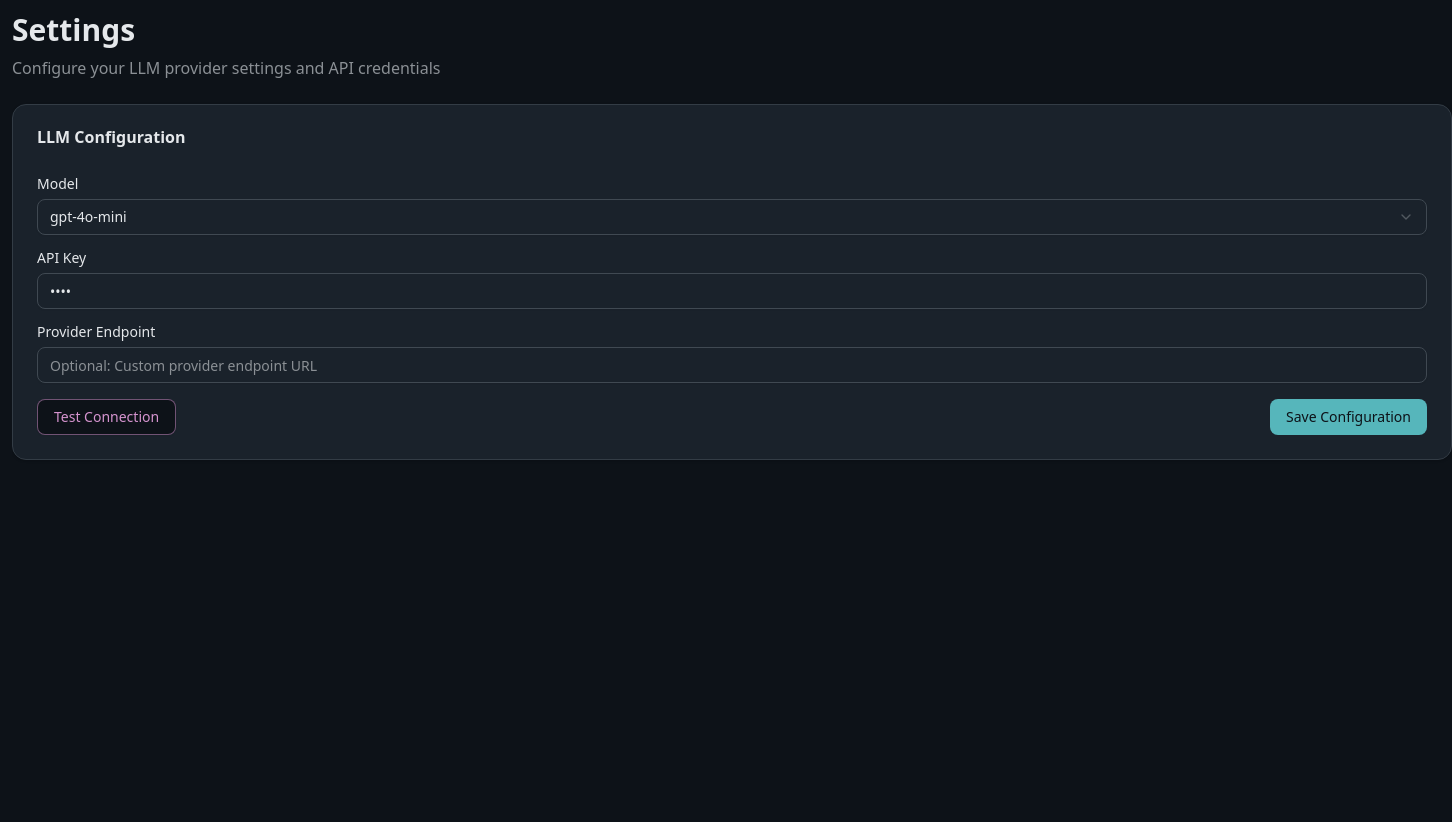
Test case: Settings Test Connection Integration Test › should allow test connection with modified base URL
Type "sk-test-key" into the password field labelled "API Key" at (732, 291), box [37, 273, 1427, 309]
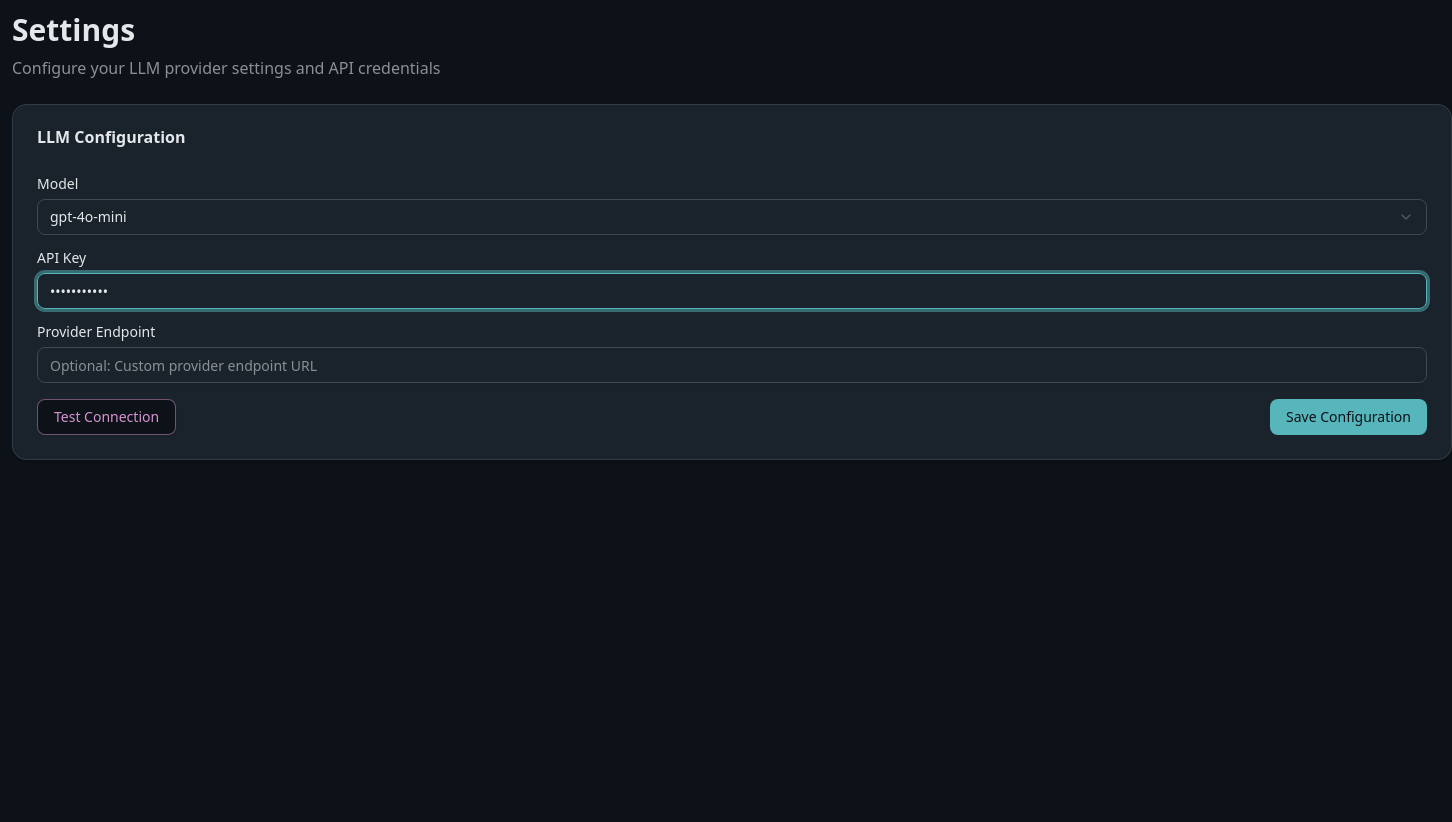
Type "https://custom.openai.endpoint.com" into the field labelled "Provider Endpoint" at (732, 365), box [37, 347, 1427, 383]
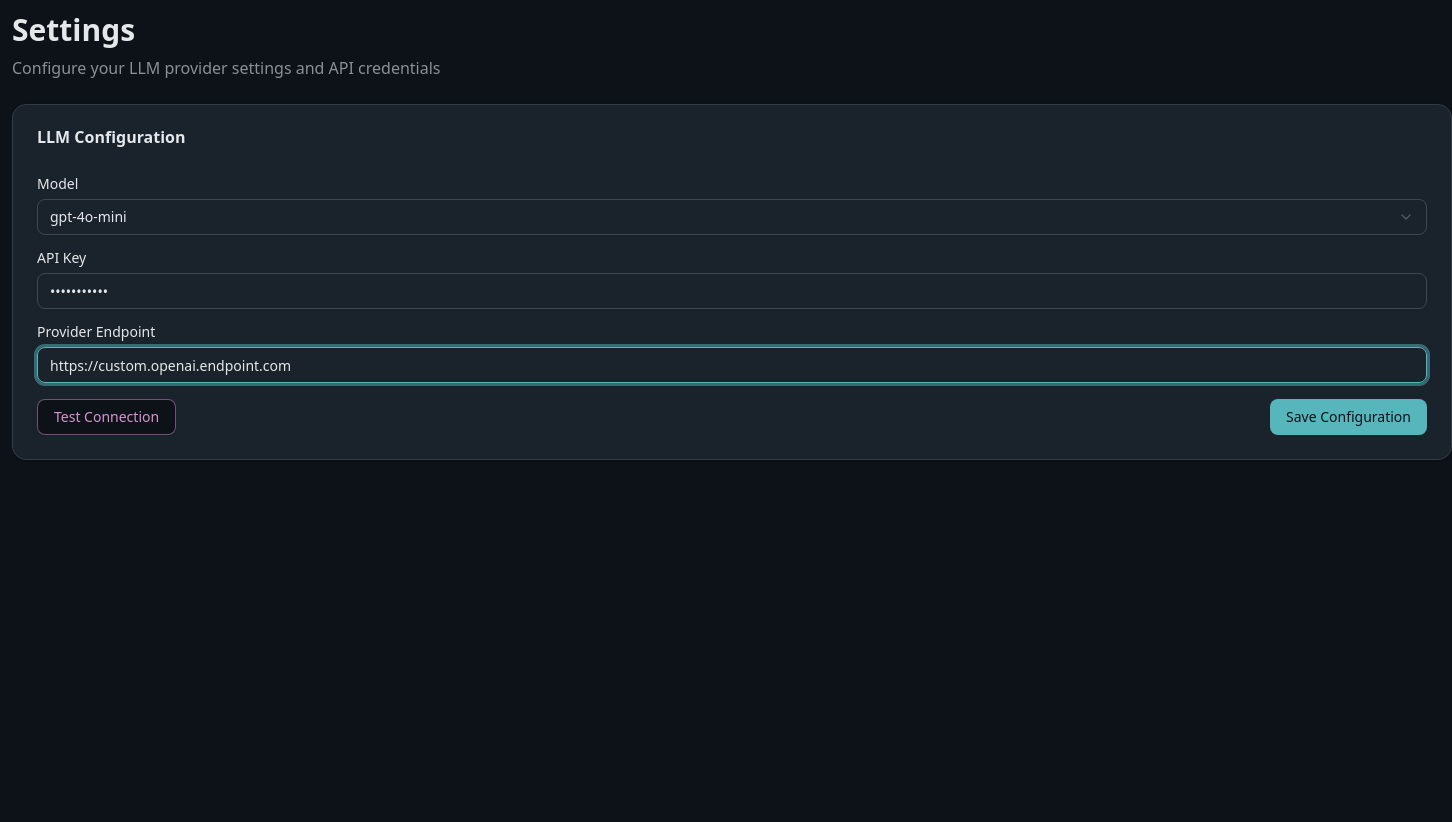
Click the button "Test Connection" at (107, 417), box [37, 399, 176, 435]
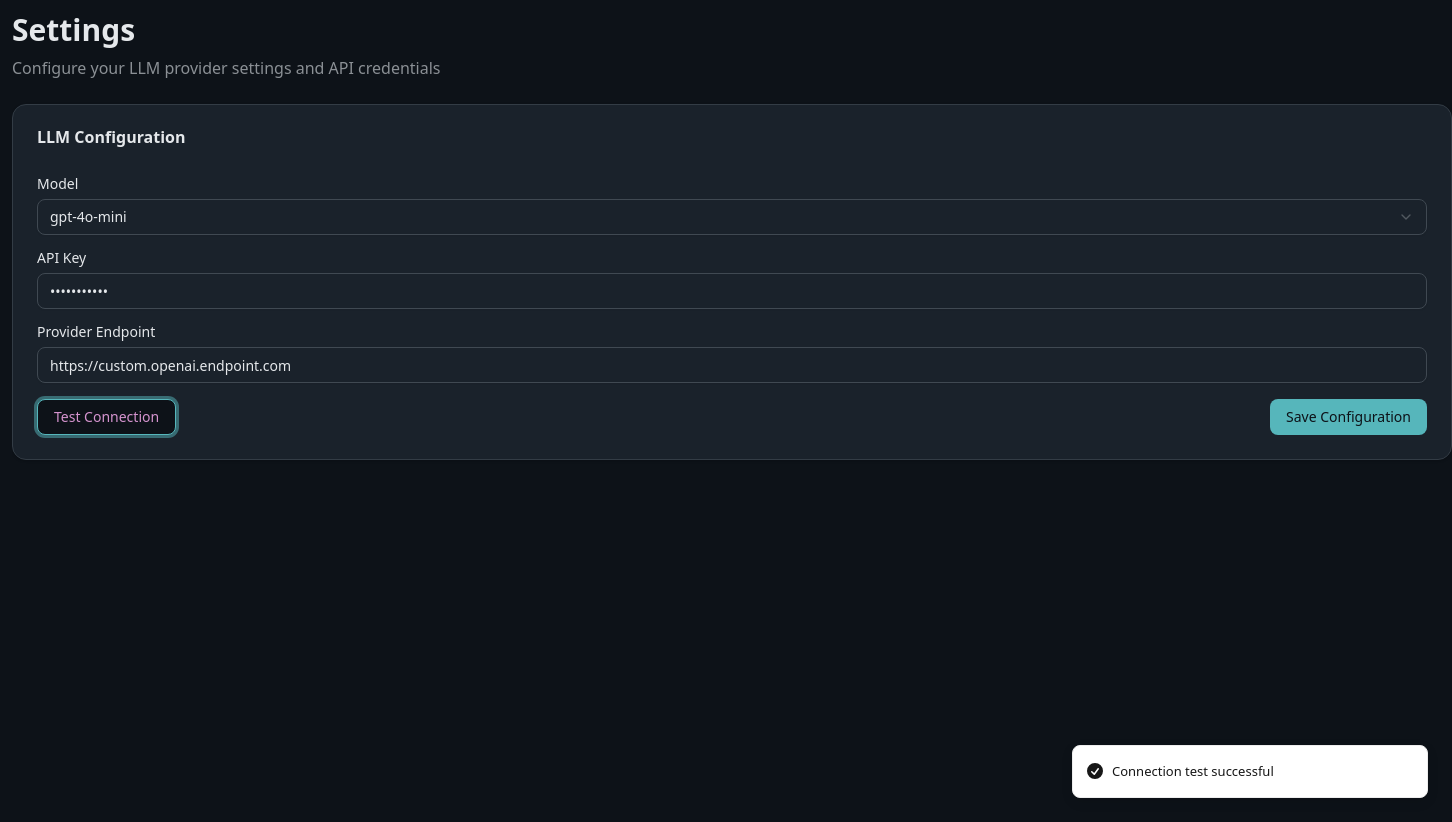
Expected: the text "Connection test successful" is shown, [1112, 762, 1274, 781]
